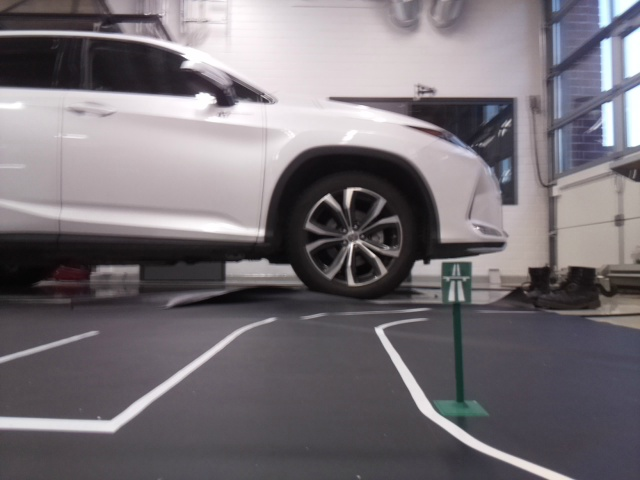HighwayEntrance: (442, 262, 474, 304)
